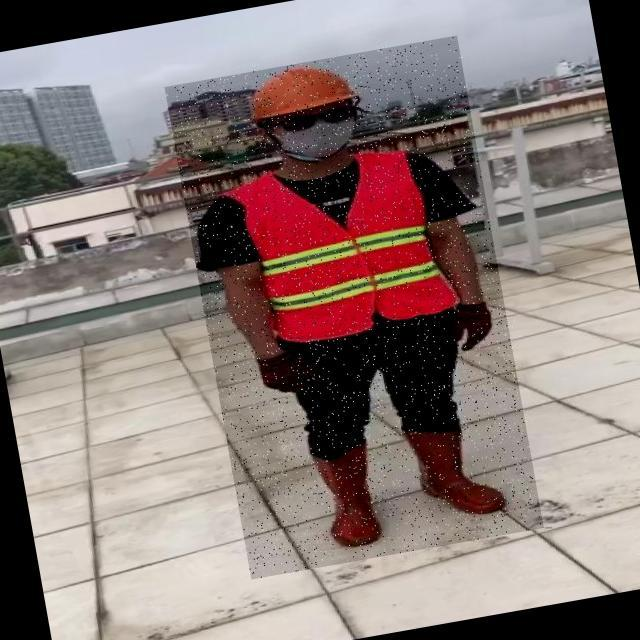Gloves: (262, 348, 326, 400), (450, 300, 499, 352)
Helmet: (241, 54, 363, 125)
Human: (165, 35, 545, 579)
Safety Boot: (409, 414, 512, 523), (311, 438, 390, 553)
Safety Vest: (236, 143, 463, 347)
